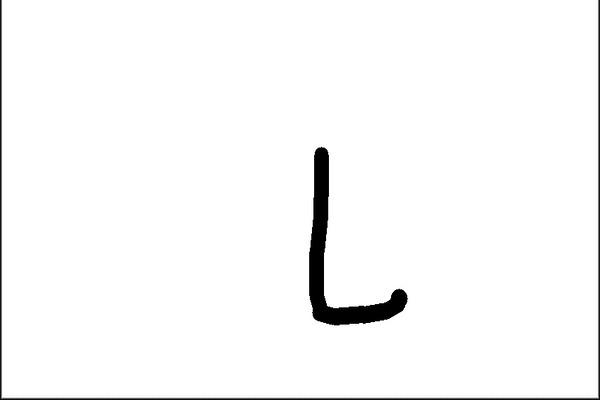L: (300, 138, 411, 328)
